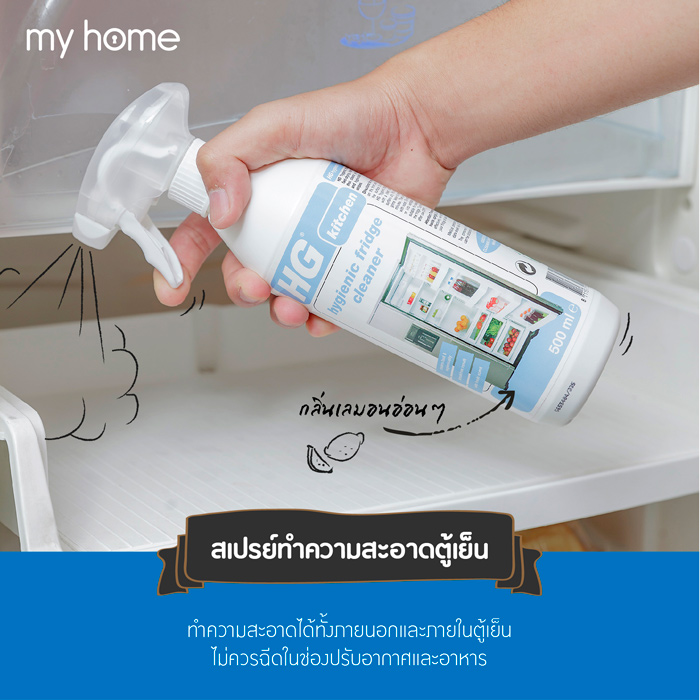Cleaning_solution: (61, 80, 632, 439)
